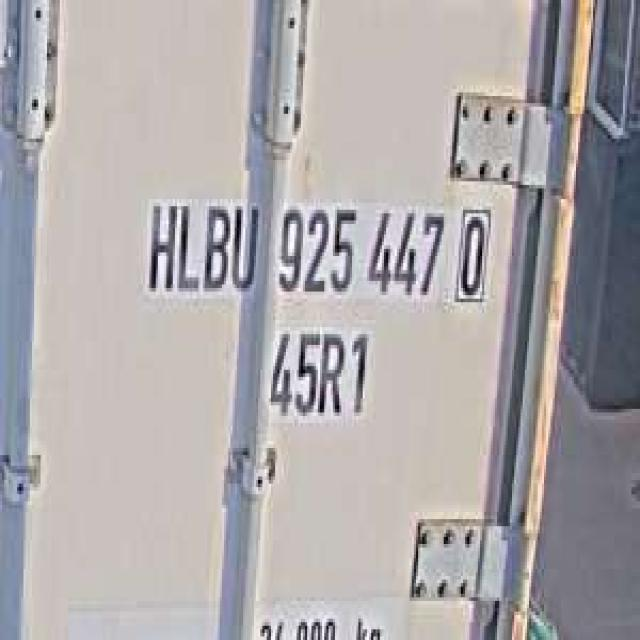dv: (452, 196, 495, 310)
owner: (141, 185, 260, 302)
serial: (269, 188, 446, 306)
size: (262, 320, 376, 427)
